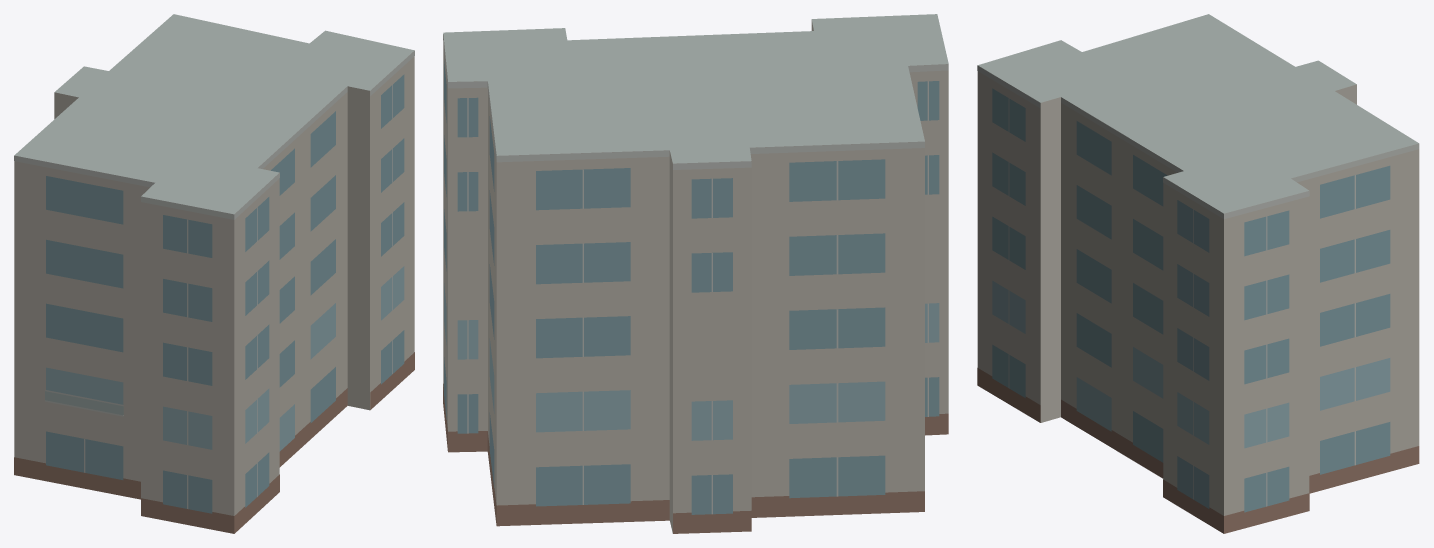
The model's file is survey-upis-32723600.glb.
3 views of the same model, side by side, from view 1: azimuth 30°, elevation 25°; view 2: azimuth 150°, elevation 25°; view 3: azimuth 270°, elevation 25° (orthographic). The views are drawn at different scales.
Parts seen in each view (by area): view 1: survey-upis-32723600.tmp; view 2: survey-upis-32723600.tmp; view 3: survey-upis-32723600.tmp.
Boxes of the visible parts, x1,y1,x2,y2 form: survey-upis-32723600.tmp: (14,14,414,533); survey-upis-32723600.tmp: (443,14,948,533); survey-upis-32723600.tmp: (977,14,1419,533).
Bounding box in the file's own units: 18.59 × 13.9 × 17.39.
